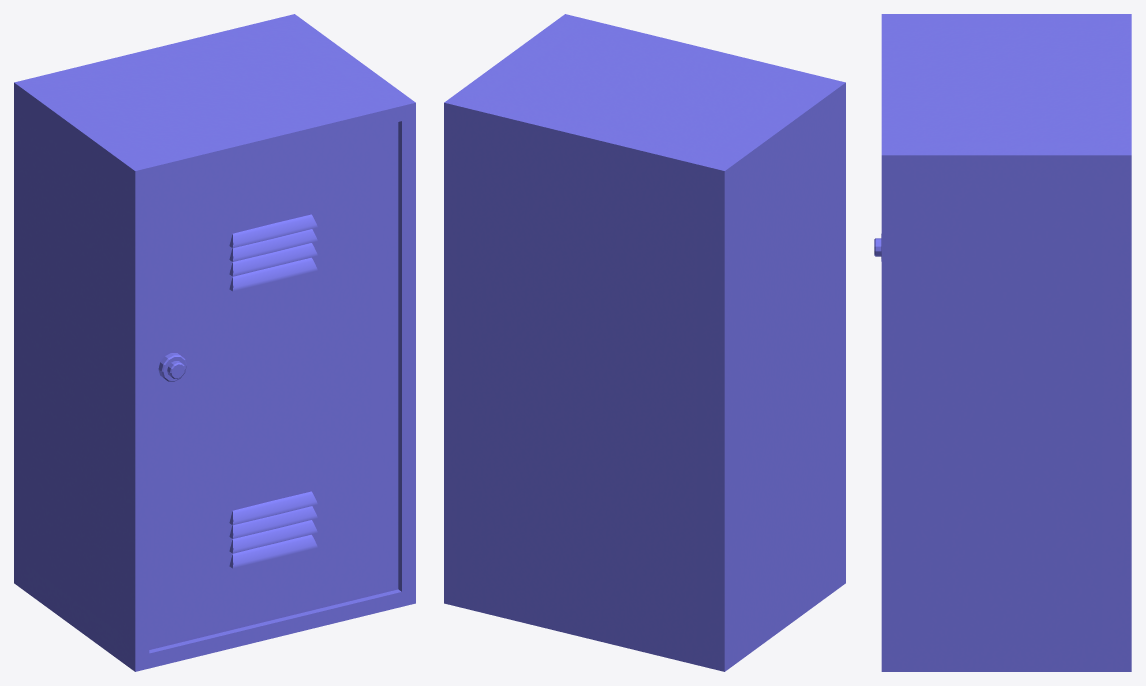
The model's file is Armario_1.fbx.
The picture shows the model from 3 angles, left to right: view 1: azimuth 30°, elevation 25°; view 2: azimuth 150°, elevation 25°; view 3: azimuth 270°, elevation 25°; orthographic projection. The views are drawn at different scales.
Visible parts, largest first — view 1: AirVent_06; view 2: AirVent_06; view 3: AirVent_06.
Boxes of the visible parts, bbox=[...] form: AirVent_06: bbox=[14, 14, 415, 671]; AirVent_06: bbox=[444, 14, 845, 671]; AirVent_06: bbox=[874, 14, 1131, 671].
Size of the model in its own units: 0.594 by 1.01 by 0.4574.
